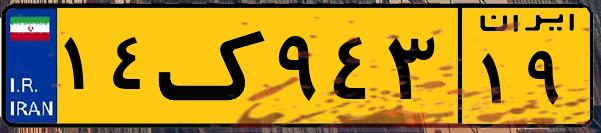1: (57, 26, 110, 100), (475, 38, 525, 113)
3: (385, 28, 445, 110)
4: (330, 28, 385, 110), (110, 28, 158, 98)
9: (270, 28, 330, 110), (525, 38, 570, 115)
ک: (158, 12, 270, 120)
